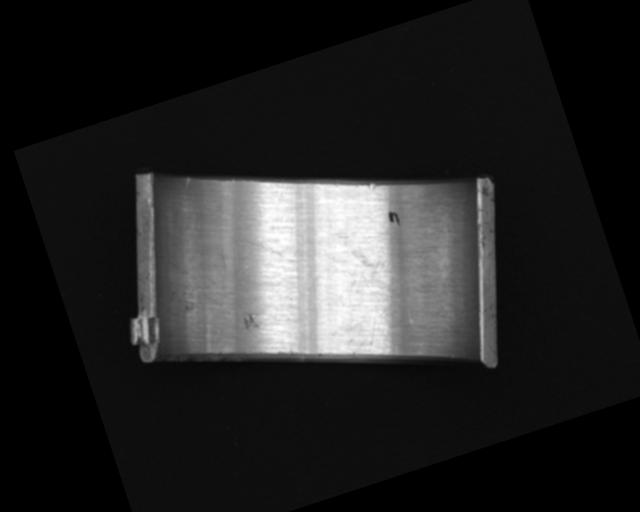blot: (343, 237, 395, 294), (385, 206, 402, 229)
bruise: (240, 311, 260, 334), (367, 181, 376, 190)
nick: (239, 225, 297, 278), (180, 176, 192, 190)
